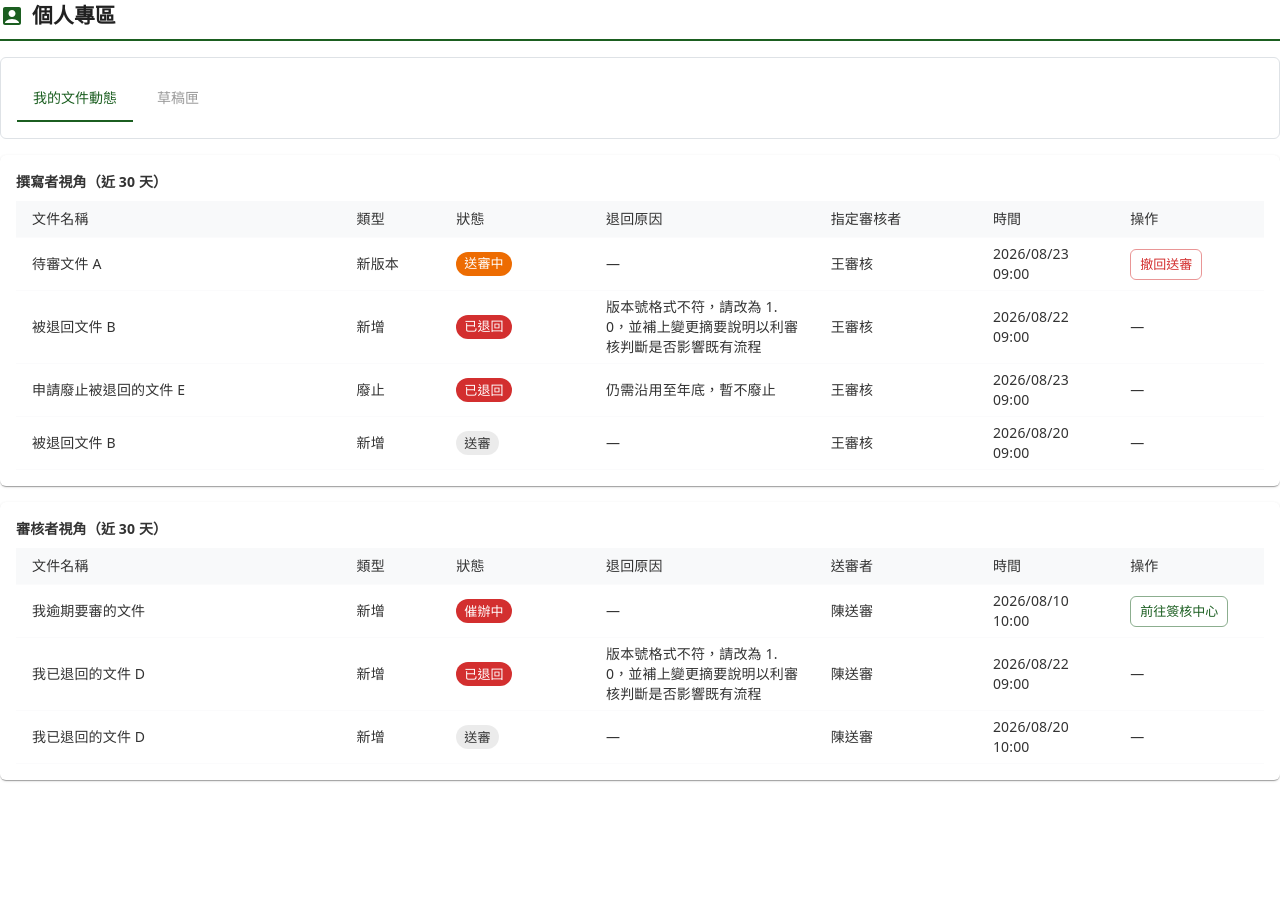
Scenario: DmPersonalPage 個人專區（DM04） › 刪除草稿 → 確認（DM-MSG-DM04-004）→ 成功 toast
This screenshot has width=1280, height=900.
Click the tab "草稿匣".
click(178, 98)  # box [133,74,223,122]
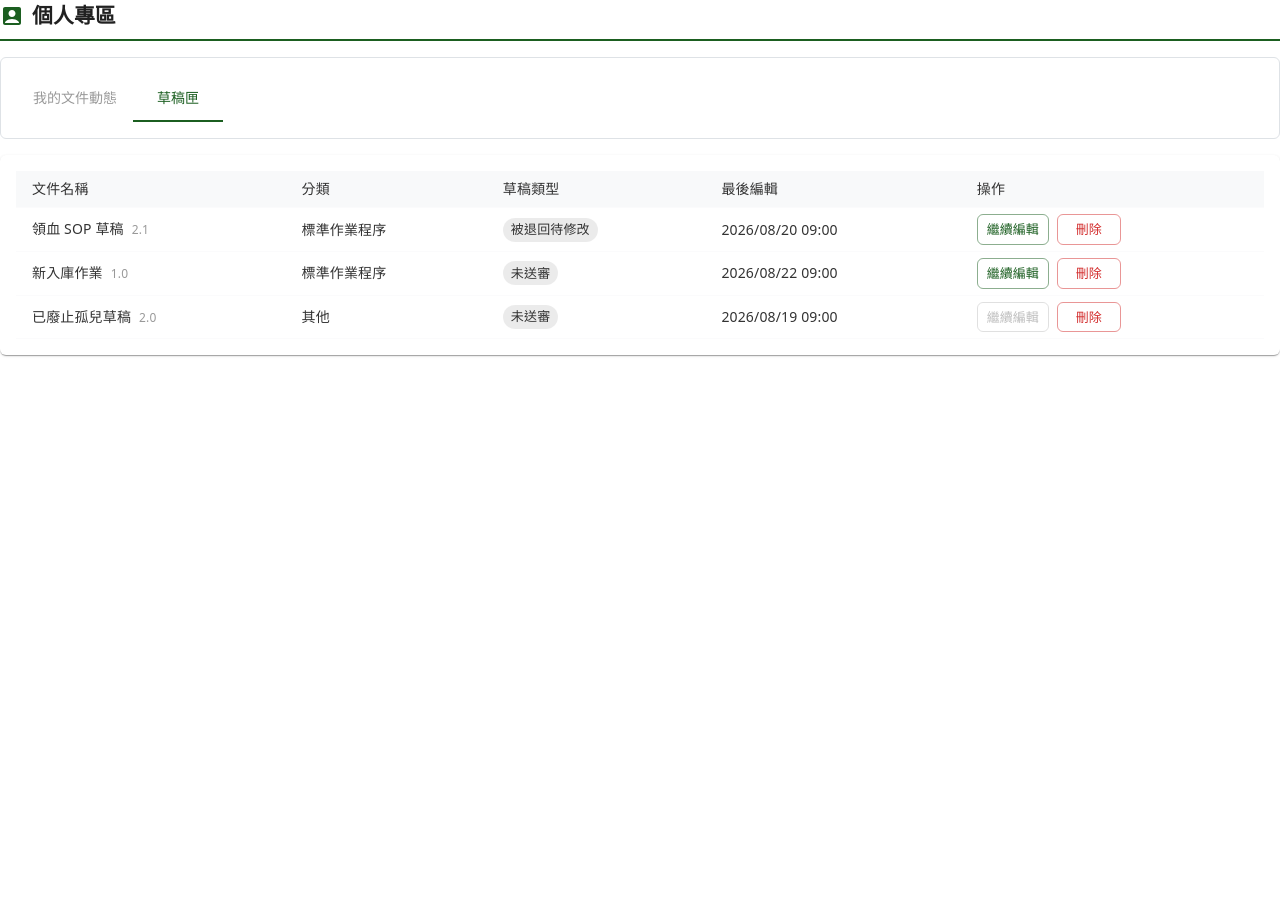
Result: the text "領血 SOP 草稿" is shown at [32,219,124,238]
Click the button "刪除" in the row of "領血 SOP 草稿".
click(1089, 230)  # box [1057,214,1121,245]
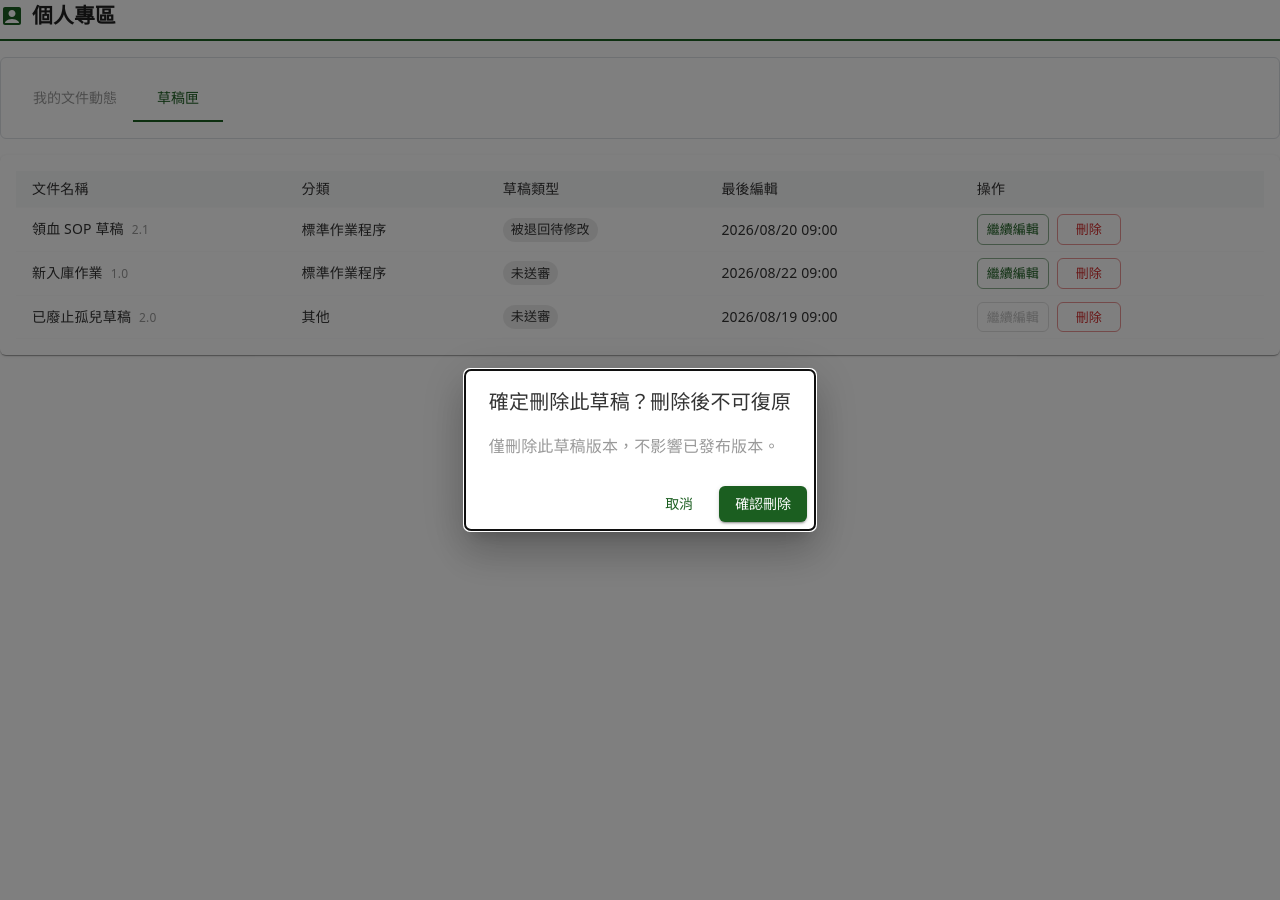
Result: the heading "確定刪除此草稿？刪除後不可復原" is shown at [489,388,791,415]
Click the button "確認刪除".
click(763, 504)  # box [719,486,807,522]
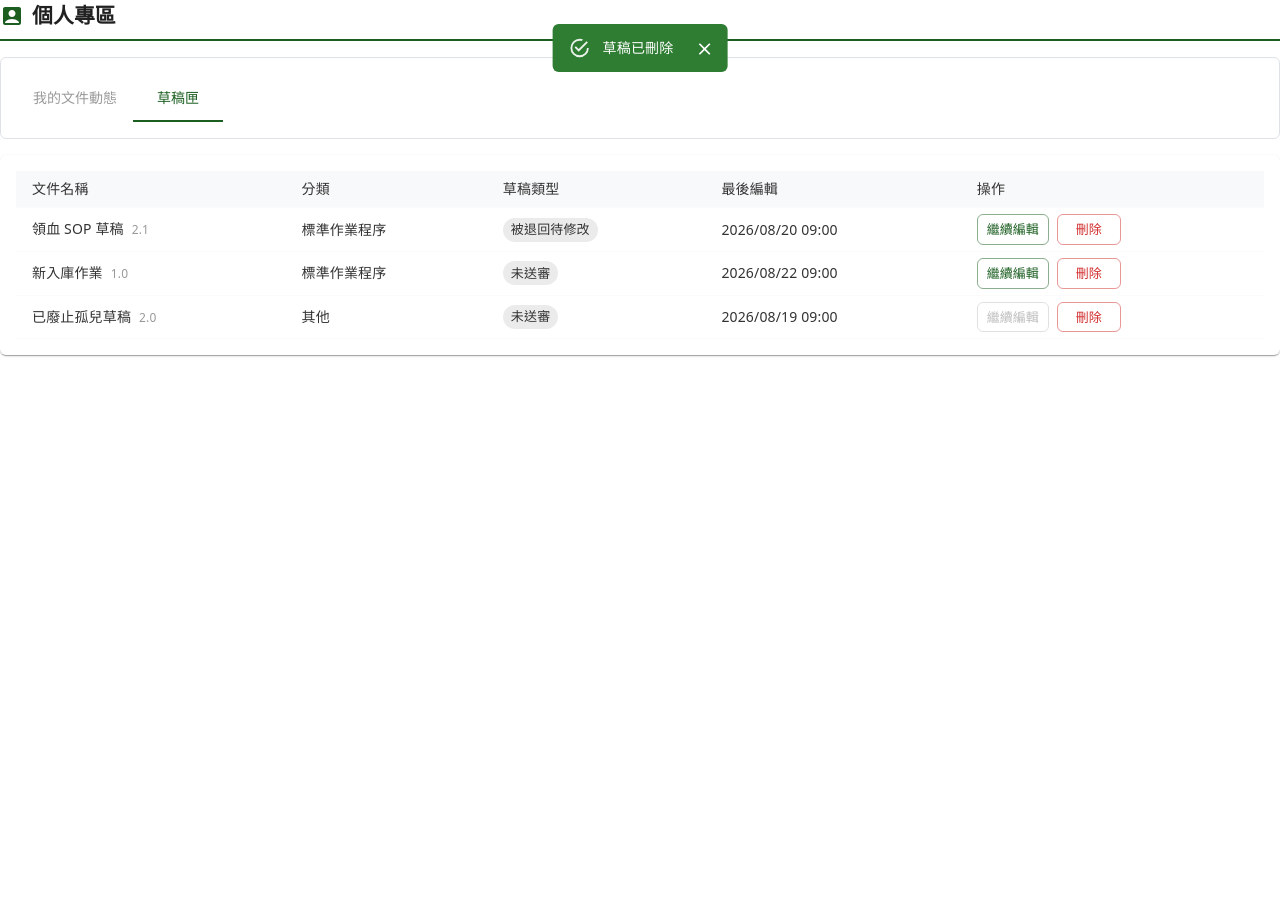
Result: the text "草稿已刪除" is shown at [603,38,673,57]
